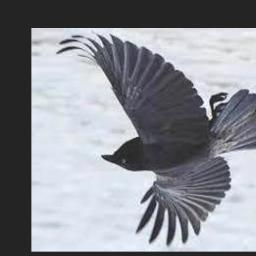Crow: (55, 33, 256, 246)
